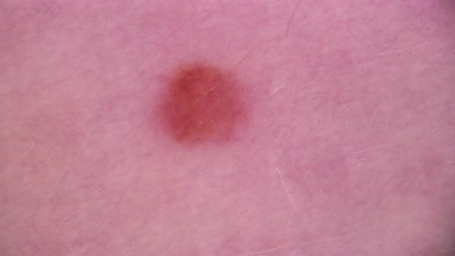nevus: (163, 64, 247, 144)
